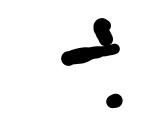div: (62, 19, 123, 107)
